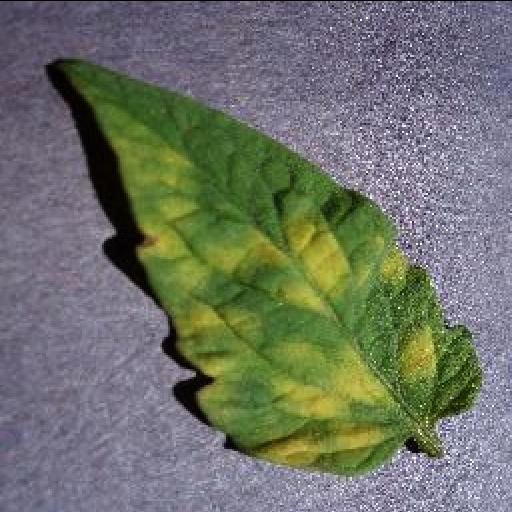disease_tomato: (58, 57, 478, 474)
